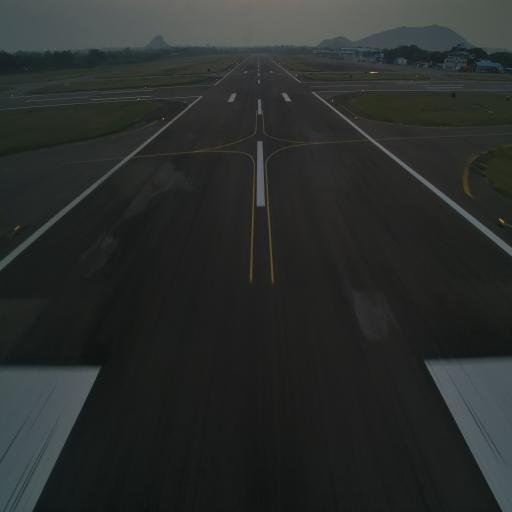on: (498, 216, 505, 230), (14, 223, 21, 235)
